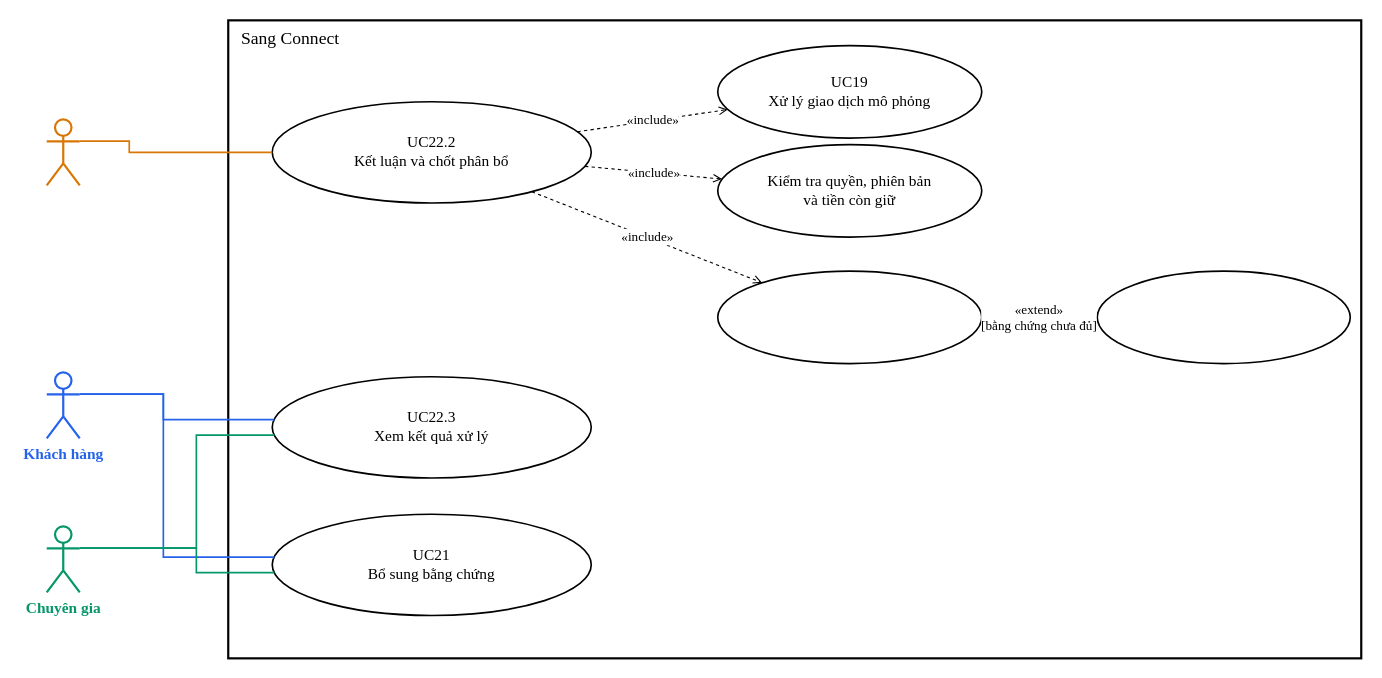
This 1382x678 diagram has some shape labels left out. Here are the shapes that lost their labels. From the top down, the centre of each, then its label:
point (62, 152): Quản trị viên
point (849, 317): UC22.1 Xem hồ sơ và bằng chứng
point (1223, 317): Yêu cầu bổ sung bằng chứng
